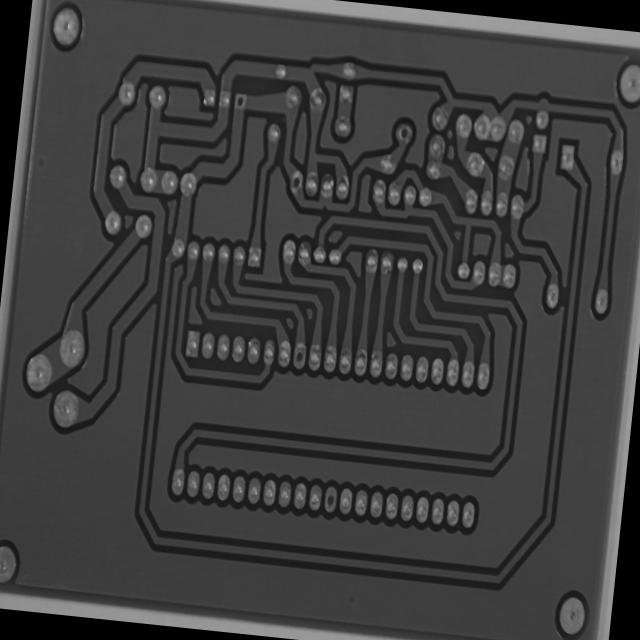missing_hole: (318, 480, 342, 518), (392, 116, 416, 148), (284, 164, 306, 197), (288, 339, 308, 374), (230, 88, 248, 111)
